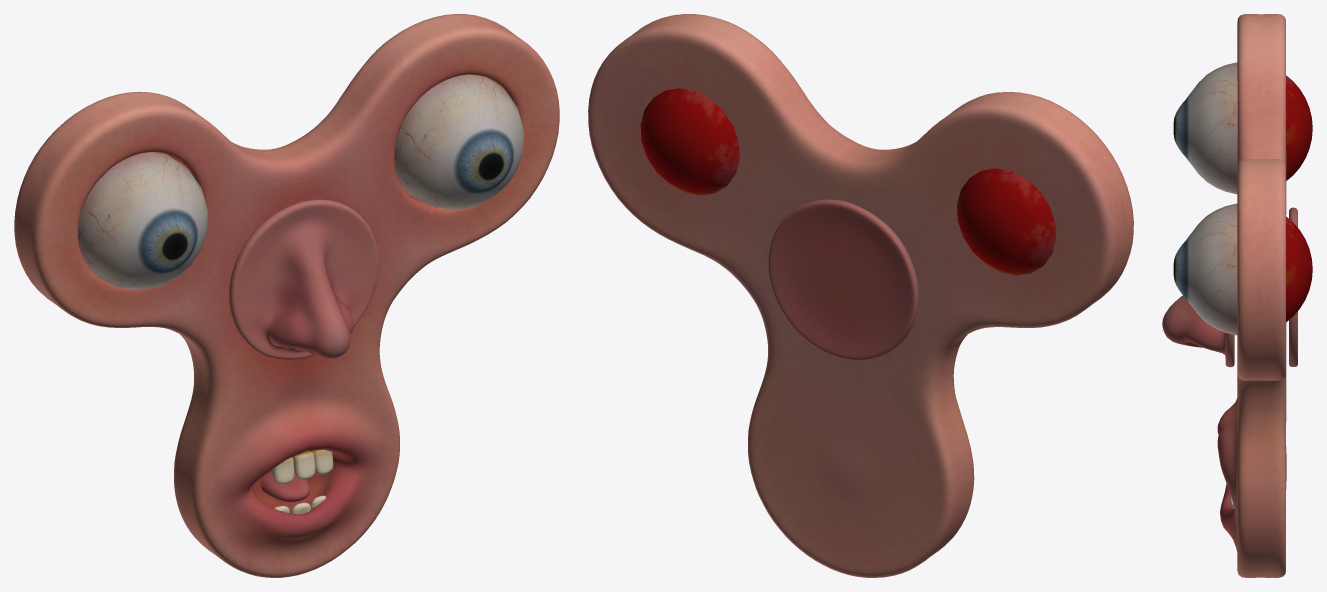
Rendered from LiveSpinner_p_y.glb.
The picture shows the model from 3 angles, left to right: view 1: azimuth 30°, elevation 25°; view 2: azimuth 150°, elevation 25°; view 3: azimuth 270°, elevation 25°; orthographic projection. The views are drawn at different scales.
Parts seen in each view (by area): view 1: Body, Nose, left_eye, right_eye, teef, Tongue; view 2: Body, Nose, right_eye, left_eye; view 3: Body, left_eye, right_eye, Nose.
Part boxes in pixels (x1,y1,x2,y2): Body: (14,14,559,577); Nose: (229,199,379,359); left_eye: (78,152,207,289); right_eye: (394,74,523,209); teef: (272,449,333,514); Tongue: (261,471,309,502); Body: (588,14,1133,577); Nose: (768,199,919,360); right_eye: (640,88,739,195); left_eye: (957,168,1055,275); Body: (1217,14,1286,577); left_eye: (1173,62,1312,194); right_eye: (1173,203,1312,335); Nose: (1162,207,1297,367).
Bounding box in the file's own units: 3.17 × 2.91 × 0.8438.
Materials: 5 (5 with a texture image).
